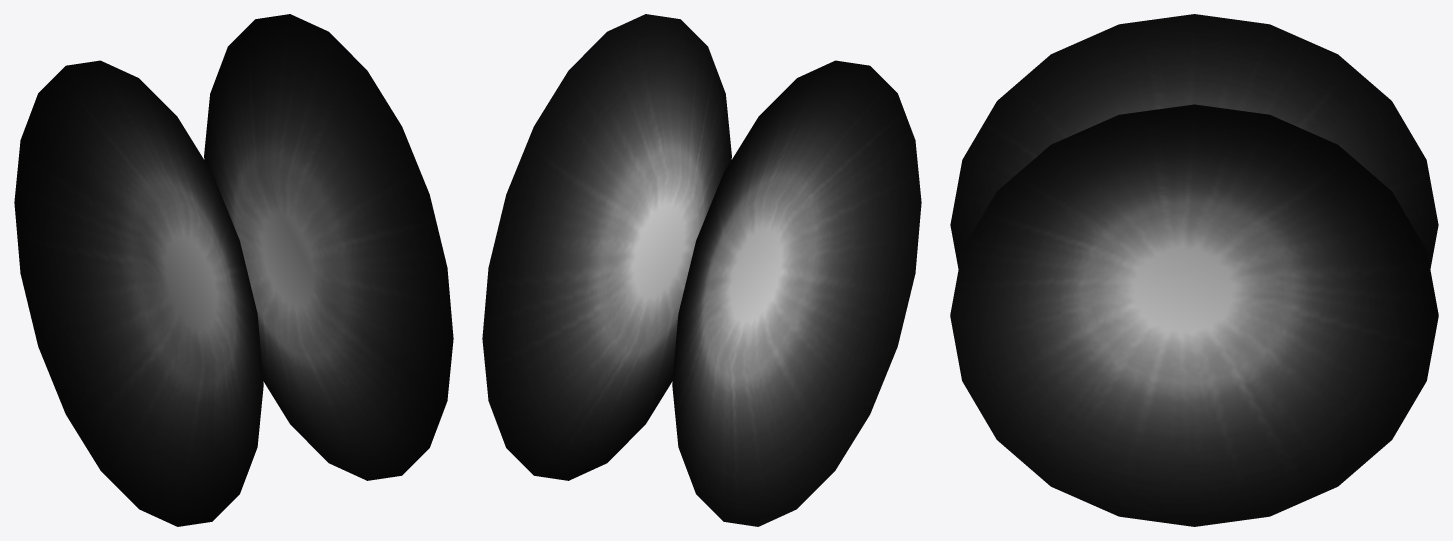
Rendered from datianshizhijueduifuwenmobang002.fbx.
The picture shows the model from 3 angles, left to right: view 1: azimuth 30°, elevation 25°; view 2: azimuth 150°, elevation 25°; view 3: azimuth 270°, elevation 25°; orthographic projection. The views are drawn at different scales.
Visible parts, largest first — view 1: datianshizhijueduifuwenmobang002; view 2: datianshizhijueduifuwenmobang002; view 3: datianshizhijueduifuwenmobang002.
Boxes of the visible parts, left/top/right/bottom form: datianshizhijueduifuwenmobang002: left=14, top=14, right=453, bottom=526; datianshizhijueduifuwenmobang002: left=482, top=14, right=921, bottom=526; datianshizhijueduifuwenmobang002: left=950, top=14, right=1438, bottom=526.
Bounding box in the file's own units: 45.43 × 98.75 × 104.
1 material, 1 textured.
